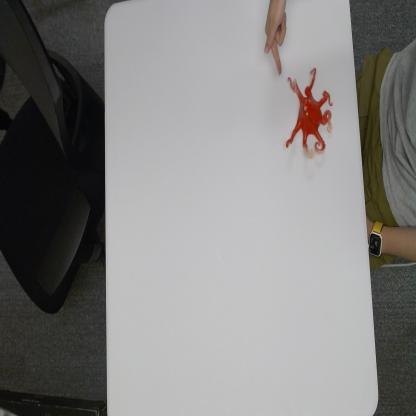Hand: (263, 0, 289, 77)
Octopus: (284, 67, 333, 161)
